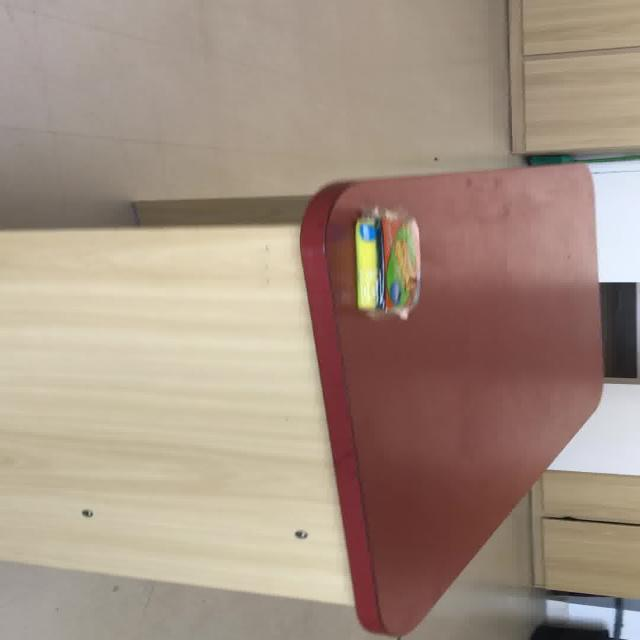sponge: (297, 161, 604, 636), (352, 206, 421, 320), (383, 216, 421, 319), (352, 212, 380, 311)
